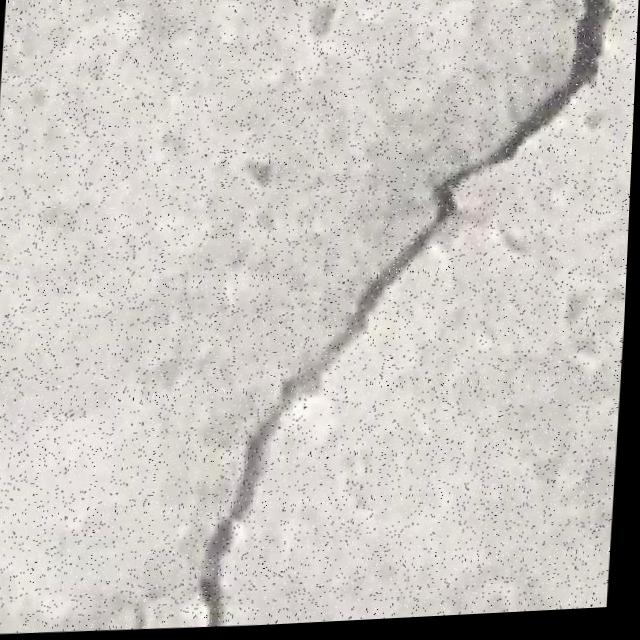Crack: (187, 0, 620, 631)
